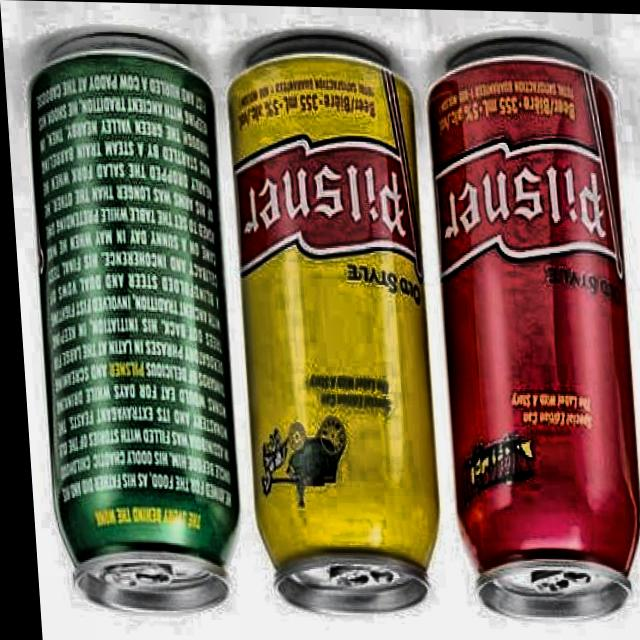can: (1, 25, 244, 624), (211, 27, 445, 624), (414, 31, 640, 627)
